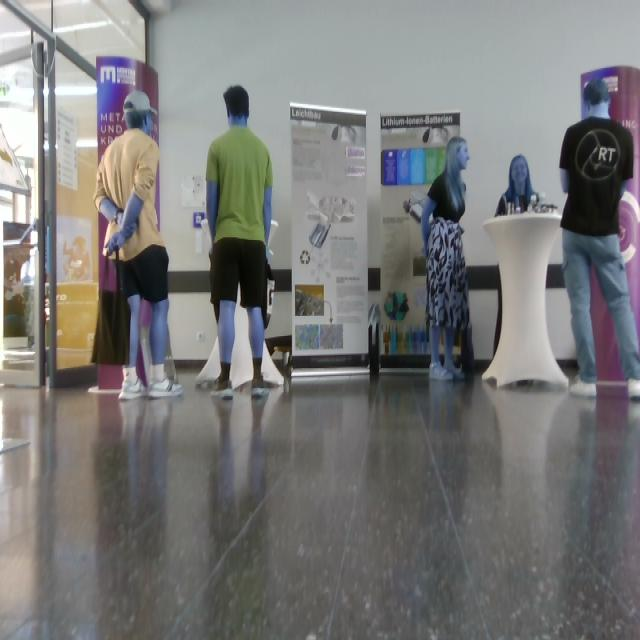banner: (292, 104, 370, 382), (381, 113, 459, 372), (582, 66, 640, 348), (97, 57, 159, 165), (93, 213, 130, 390), (591, 269, 624, 382), (156, 170, 159, 229)
door: (47, 38, 99, 386), (1, 5, 40, 386)
person: (95, 90, 182, 398), (560, 80, 640, 401), (207, 86, 273, 397), (422, 138, 472, 380)
table: (483, 209, 568, 386)
tiled floor: (1, 374, 640, 640)
